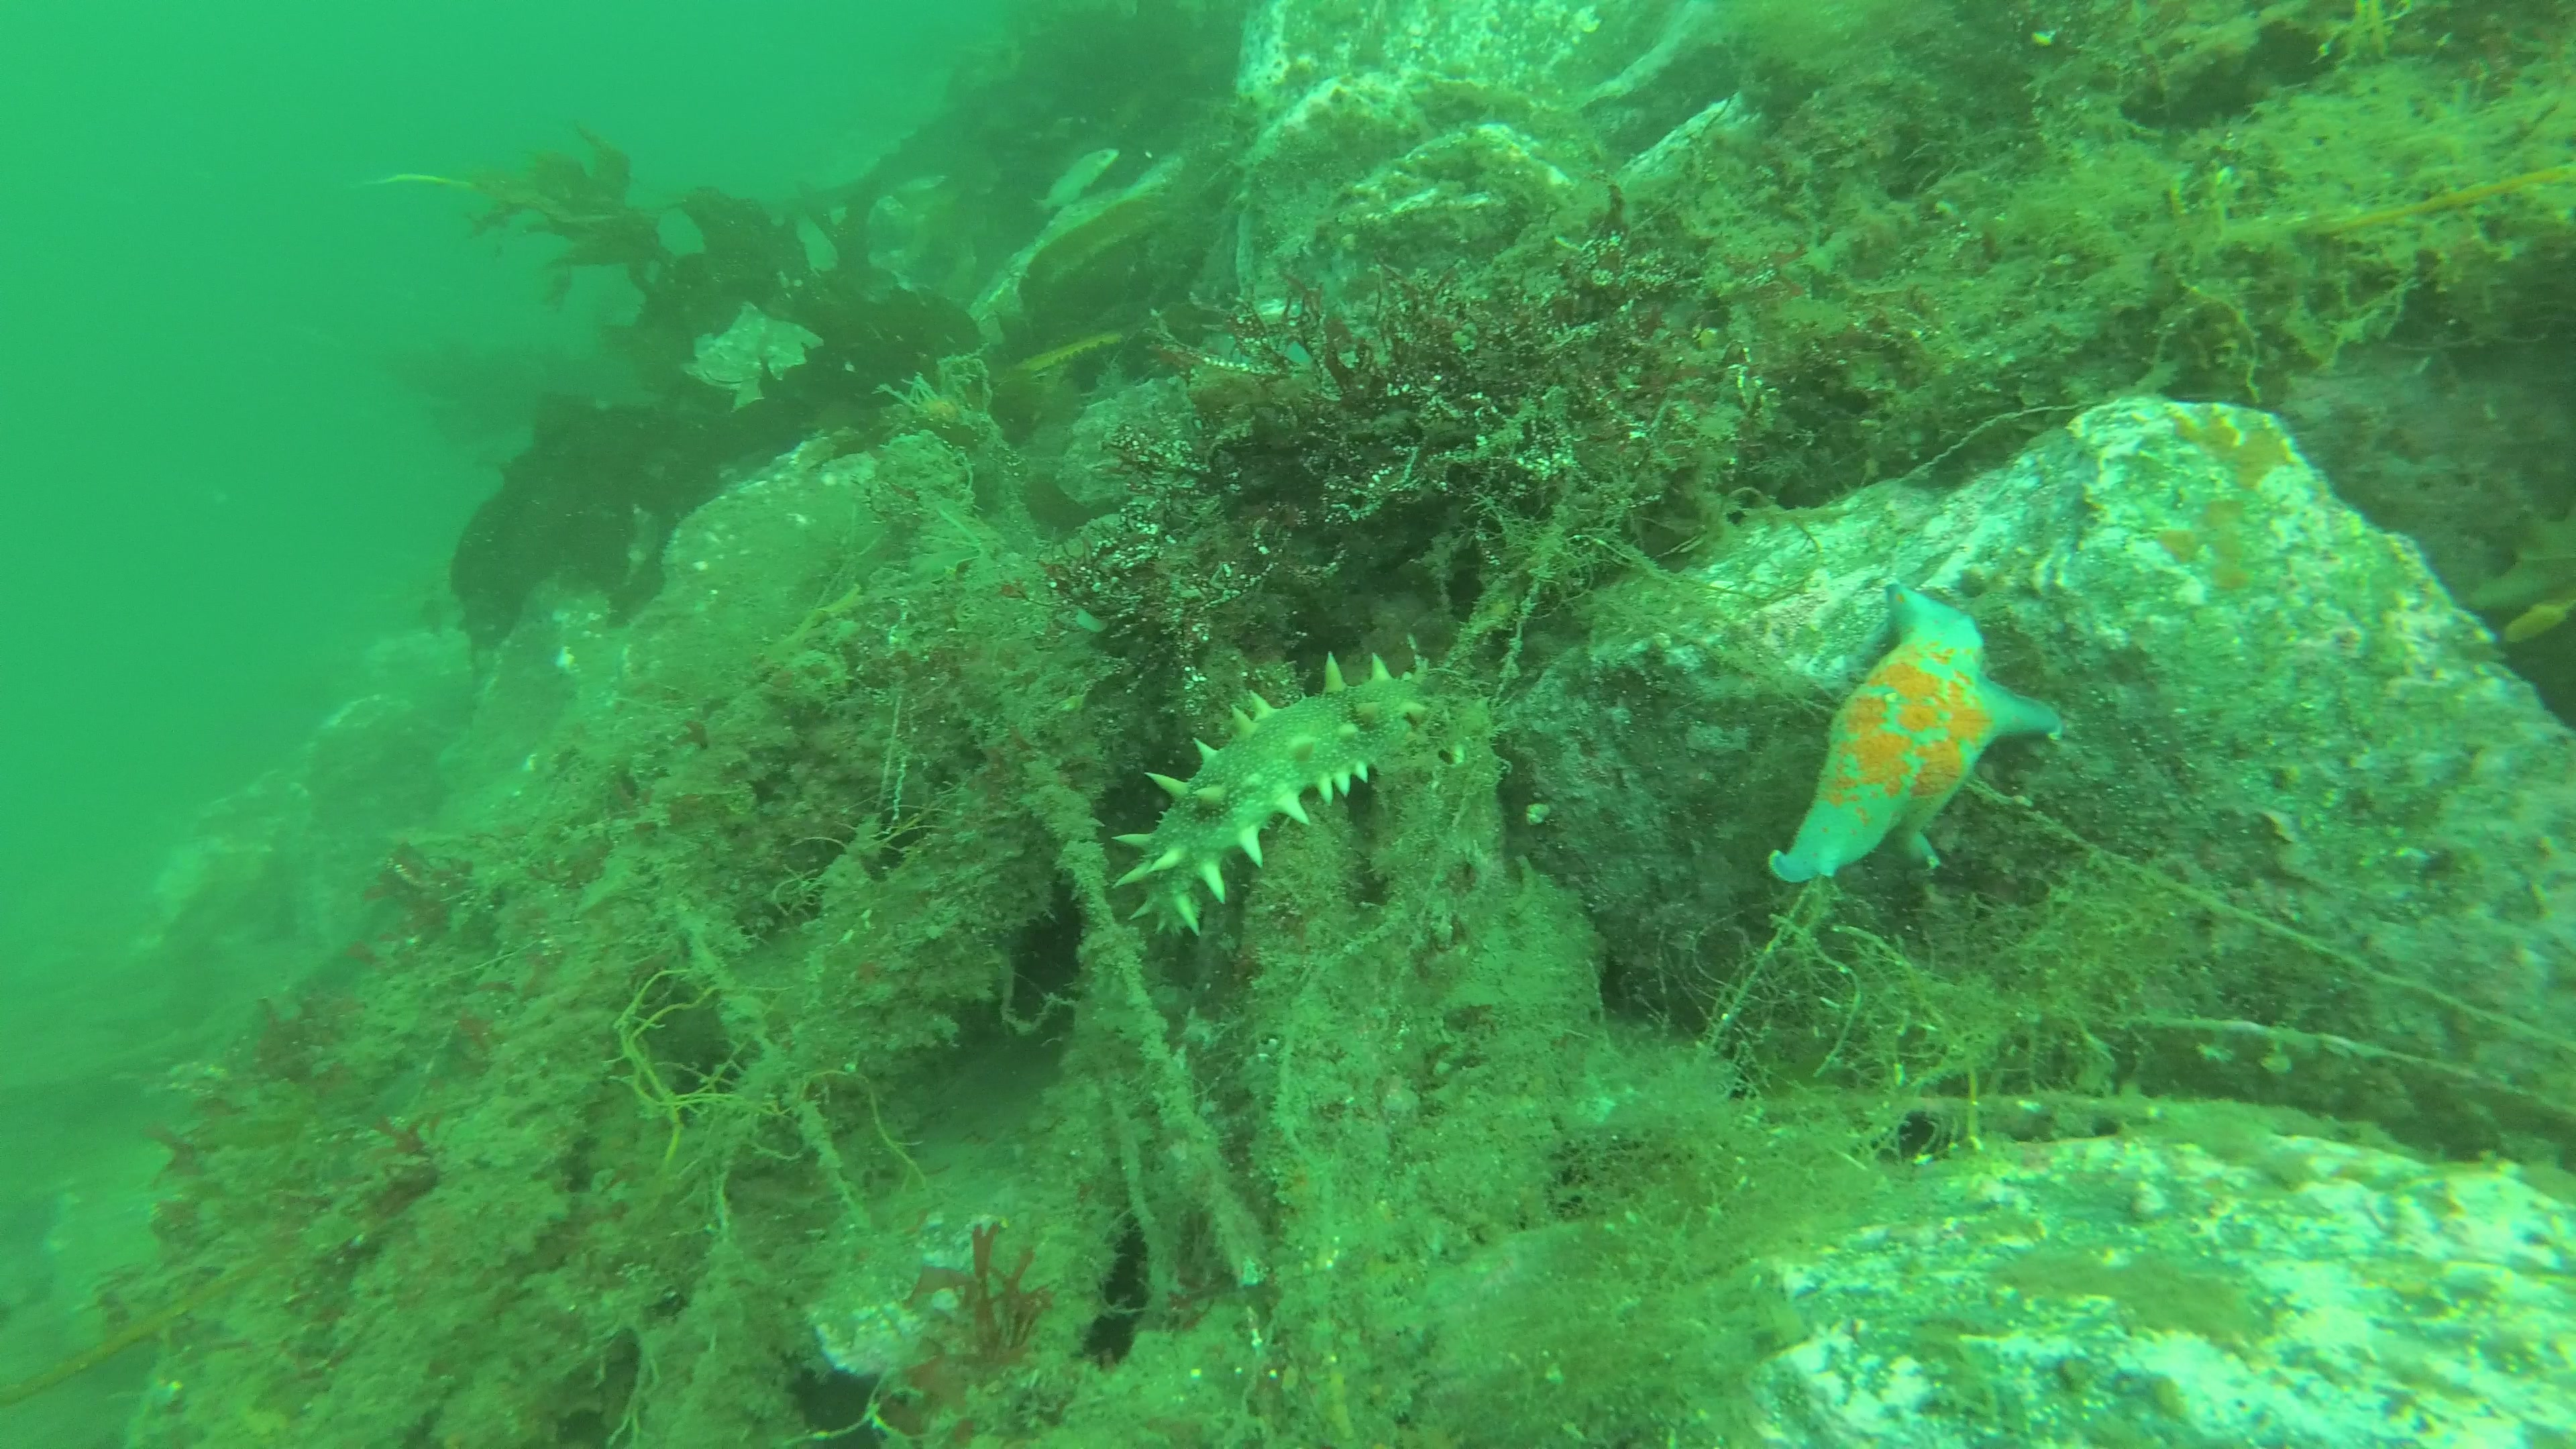holothurian: (1111, 653, 1456, 938)
starfish: (1769, 591, 2066, 886), (2477, 492, 2576, 642)
